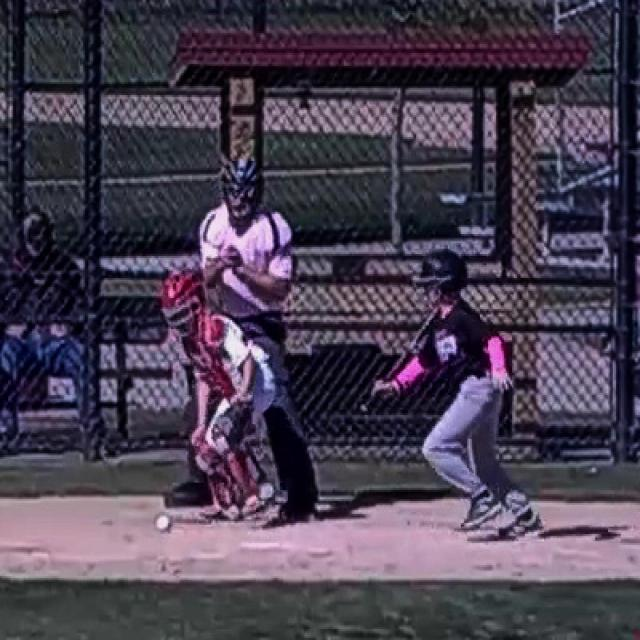baseball: (156, 515, 170, 530)
